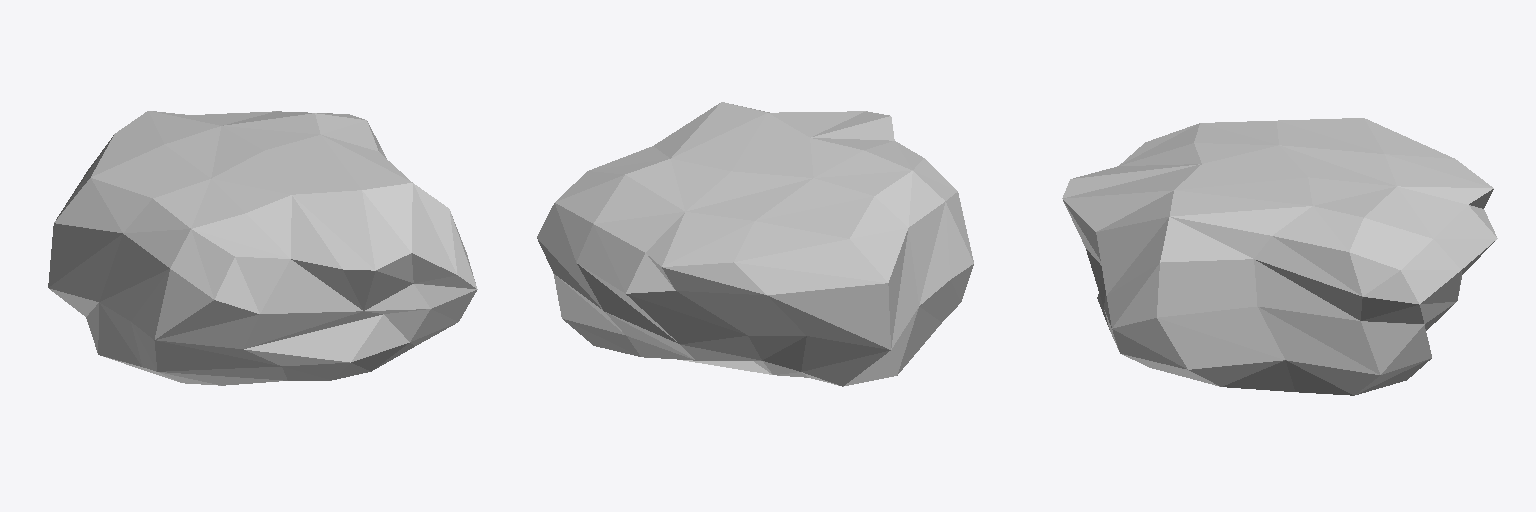
Rendered from rock.obj.
3 renders of one model, left to right at view 1: azimuth 30°, elevation 25°; view 2: azimuth 150°, elevation 25°; view 3: azimuth 270°, elevation 25°, orthographic.
Visible parts, largest first — view 1: default; view 2: default; view 3: default.
Boxes of the visible parts, x1,y1,x2,y2 form: default: [48, 111, 477, 385]; default: [537, 102, 973, 386]; default: [1062, 118, 1497, 395].
Bounding box in the file's own units: 3.18 × 1.68 × 3.63.